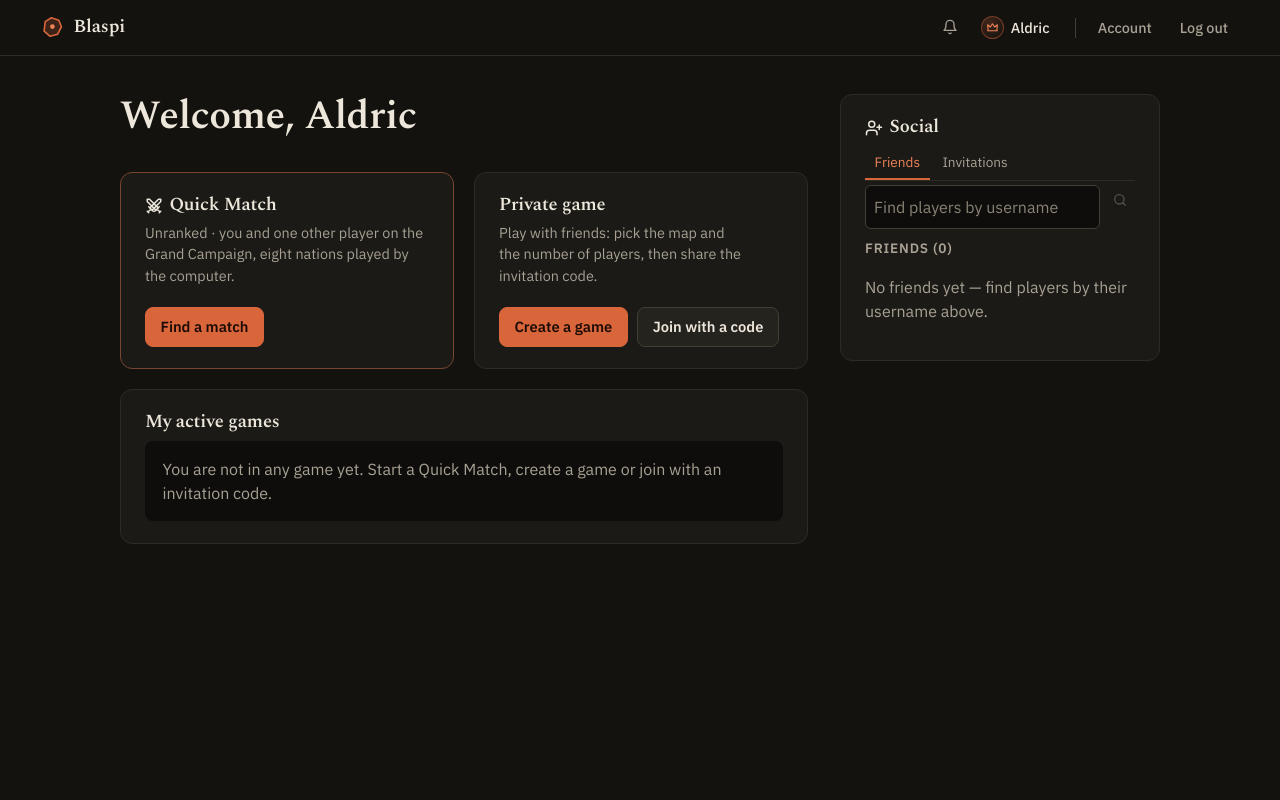
Test: Friends (12B) › finds players by username and sends a friend request
The width and height of the screenshot is (1280, 800).
Later steps or results of the test are not shown.
Type "bryn" into the field labelled "Find players by username".
click(982, 207); type("bryn")  # box [865, 185, 1100, 229]
Then press Enter
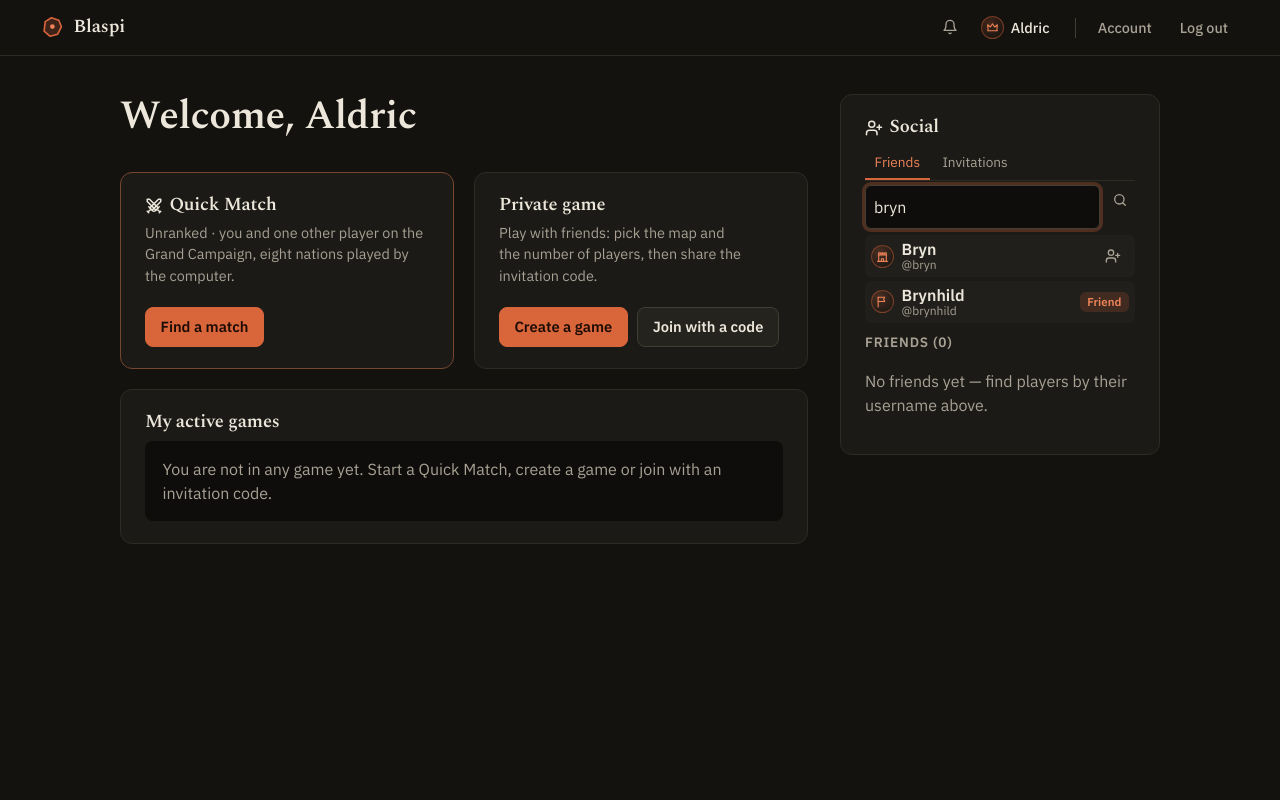
Check: the text "Friend" is shown, box [1080, 292, 1129, 312]
